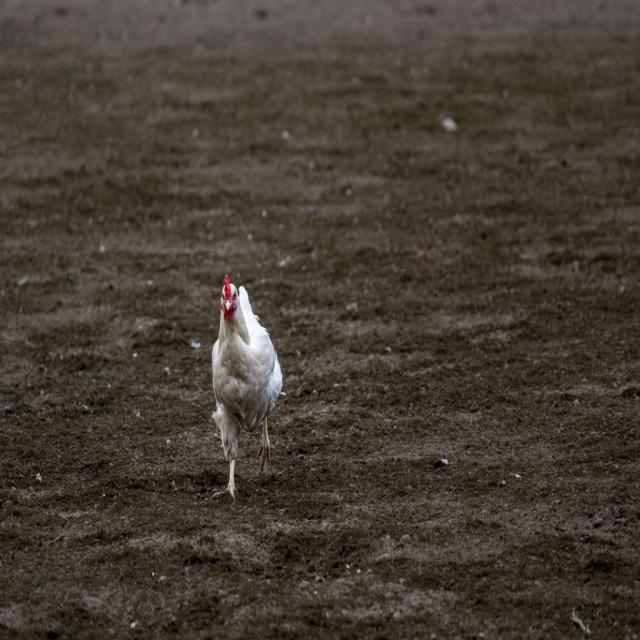Chicken: (211, 278, 287, 501)
